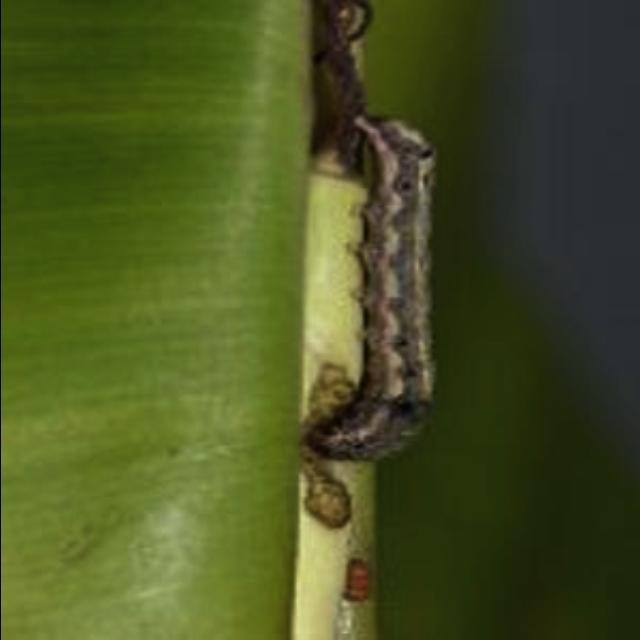Tobacco cutworm: (227, 52, 499, 518)
